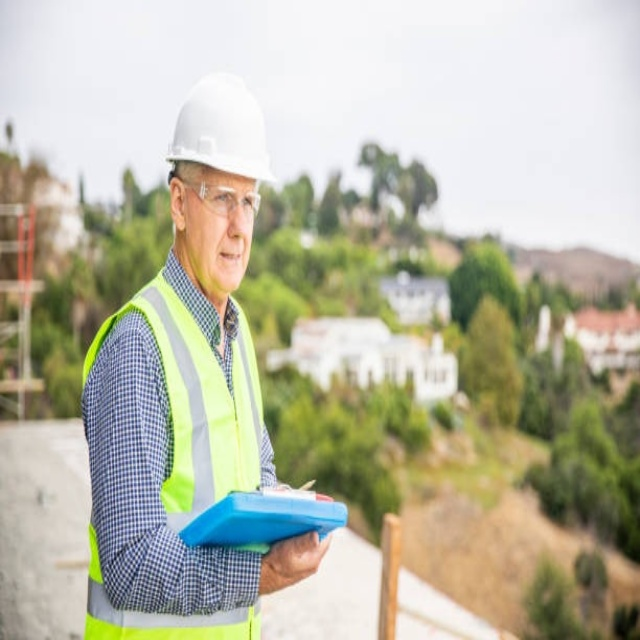Gafas: (179, 178, 262, 222)
Sin_guantes: (260, 527, 332, 589)
Sin_mascara: (208, 240, 250, 279)
